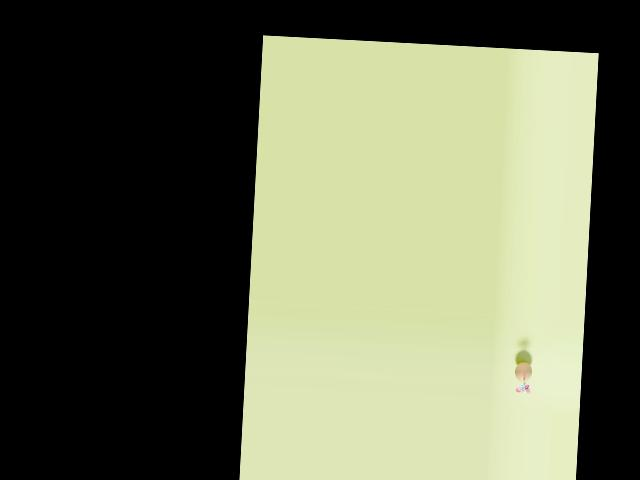egg: (514, 361, 532, 382)
